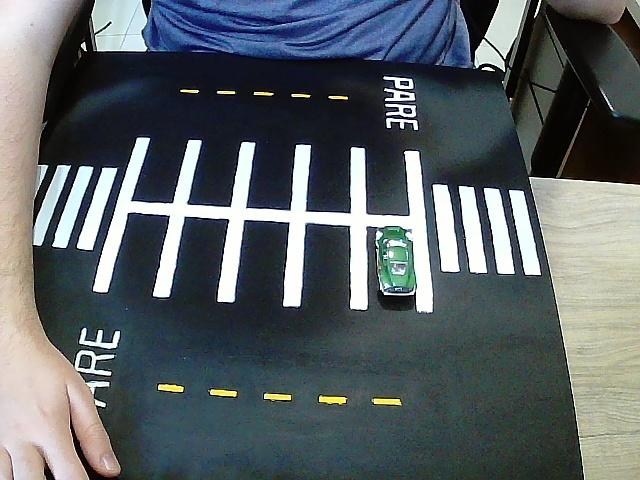Carro: (376, 227, 418, 302)
